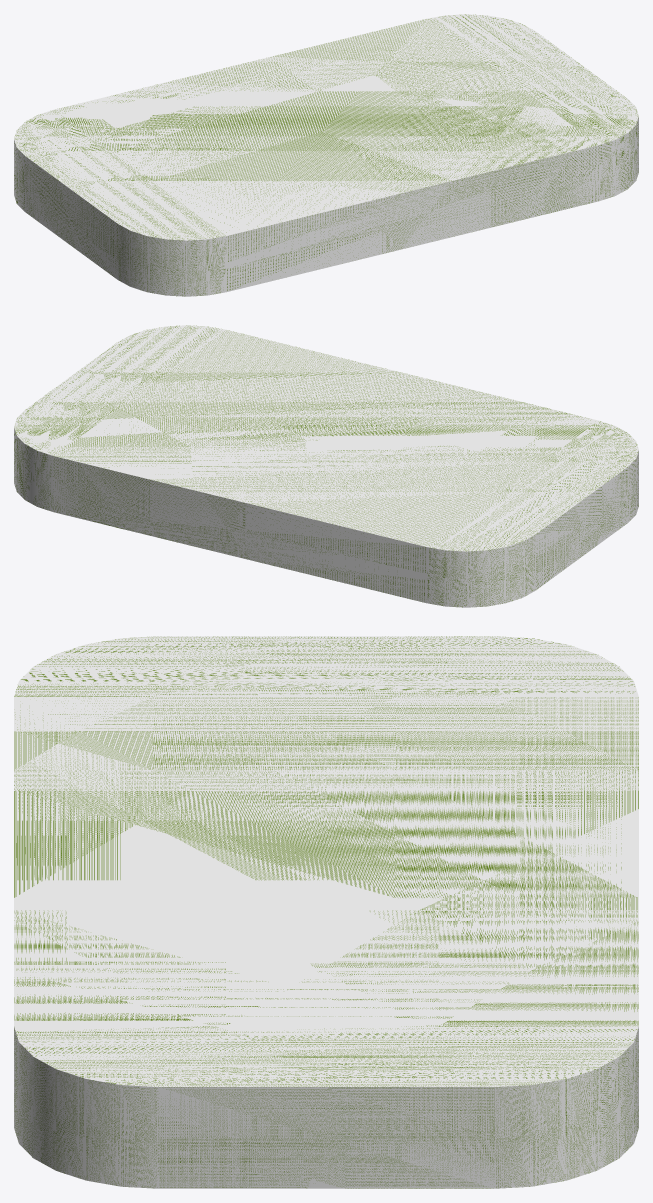
Rendered from original-73.obj.
3 renders of one model, top to bottom at view 1: azimuth 30°, elevation 25°; view 2: azimuth 150°, elevation 25°; view 3: azimuth 270°, elevation 25°, orthographic. The views are drawn at different scales.
Visible parts, largest first — view 1: mesh72/mesh72-geometry#mesh72-geometry; view 2: mesh72/mesh72-geometry#mesh72-geometry; view 3: mesh72/mesh72-geometry#mesh72-geometry.
Boxes of the visible parts, bbox=[...] form: mesh72/mesh72-geometry#mesh72-geometry: bbox=[14, 14, 638, 296]; mesh72/mesh72-geometry#mesh72-geometry: bbox=[14, 325, 638, 607]; mesh72/mesh72-geometry#mesh72-geometry: bbox=[14, 636, 638, 1188].
Bounding box in the file's own units: 0.0639 × 0.00672 × 0.0374.
